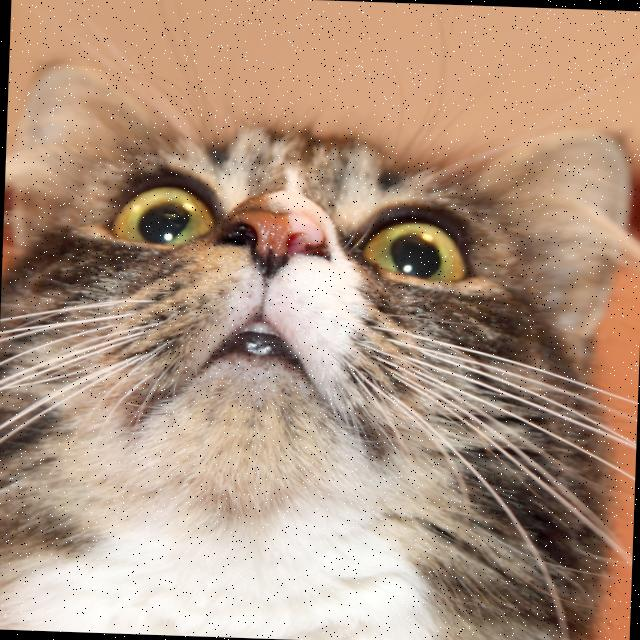Surprised: (74, 120, 499, 467)
